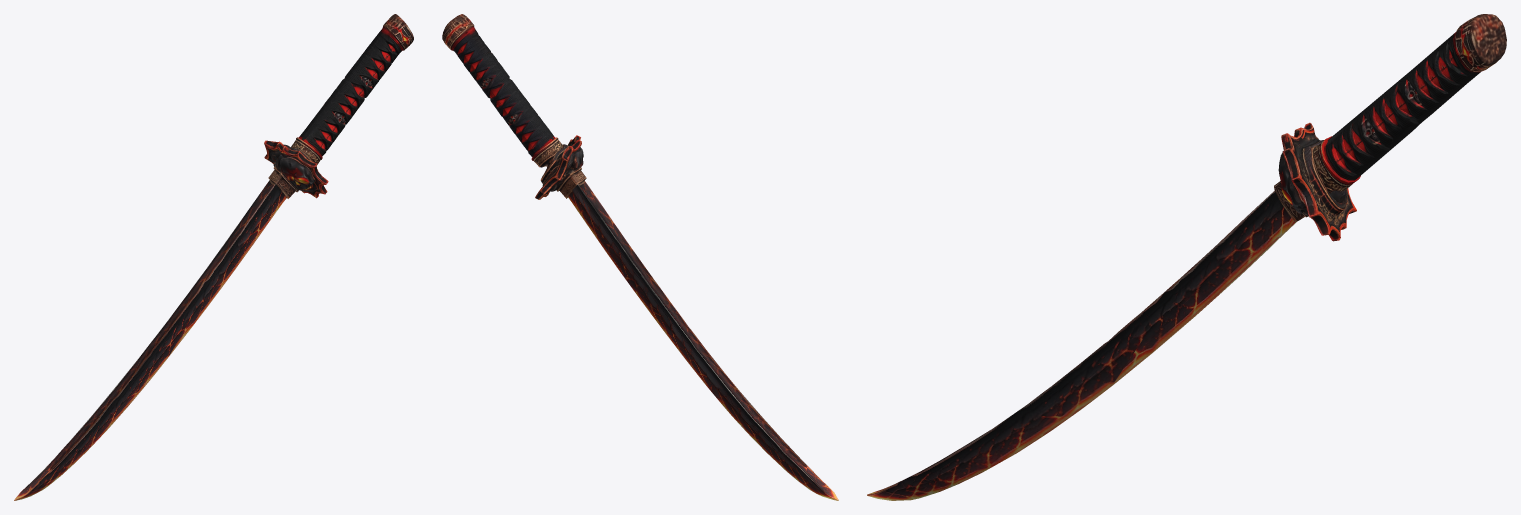
The model's file is katana.obj.
3 renders of one model, left to right at view 1: azimuth 30°, elevation 25°; view 2: azimuth 150°, elevation 25°; view 3: azimuth 330°, elevation 25°, orthographic. The views are drawn at different scales.
Visible parts, largest first — view 1: katana; view 2: katana; view 3: katana.
Part boxes in pixels (x1,y1,x2,y2): katana: [14, 14, 413, 500]; katana: [442, 14, 838, 500]; katana: [867, 14, 1506, 500].
Bounding box in the file's own units: 4 × 3.82 × 0.6201.
1 material, 1 textured.
